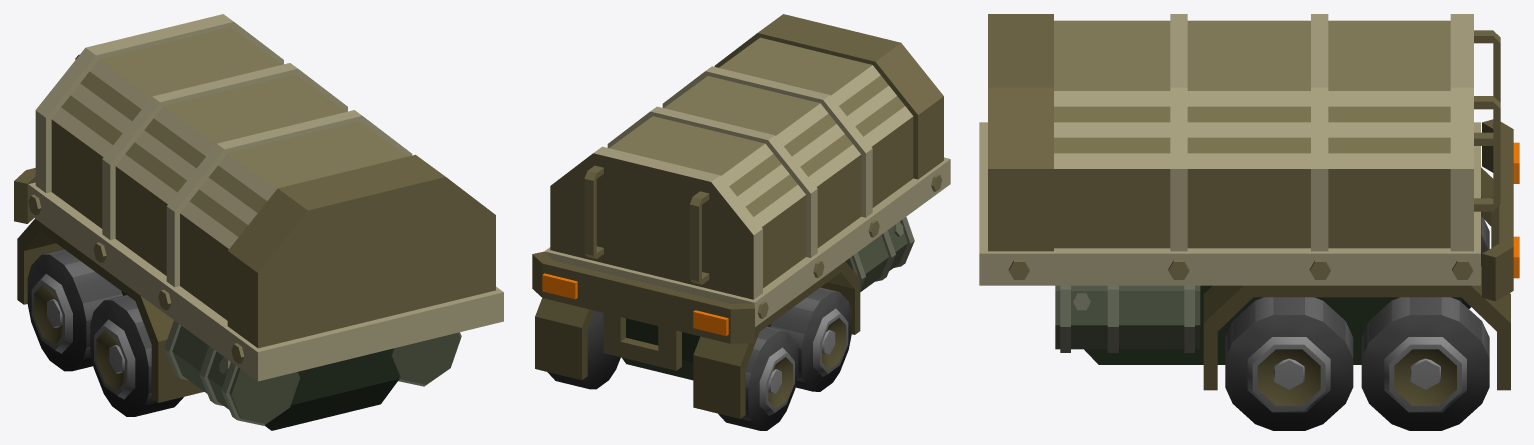
The model's file is cargo_00_SP4_1.fbx.
3 views of the same model, side by side, from view 1: azimuth 30°, elevation 25°; view 2: azimuth 150°, elevation 25°; view 3: azimuth 270°, elevation 25° (orthographic). The views are drawn at different scales.
Parts seen in each view (by area): view 1: cargo_00_SP4_1; view 2: cargo_00_SP4_1; view 3: cargo_00_SP4_1.
Boxes of the visible parts, left/top/right/bottom form: cargo_00_SP4_1: left=14, top=14, right=503, bottom=430; cargo_00_SP4_1: left=532, top=14, right=950, bottom=430; cargo_00_SP4_1: left=979, top=14, right=1519, bottom=430.
Size of the model in its own units: 1585 by 1684 by 2604.
